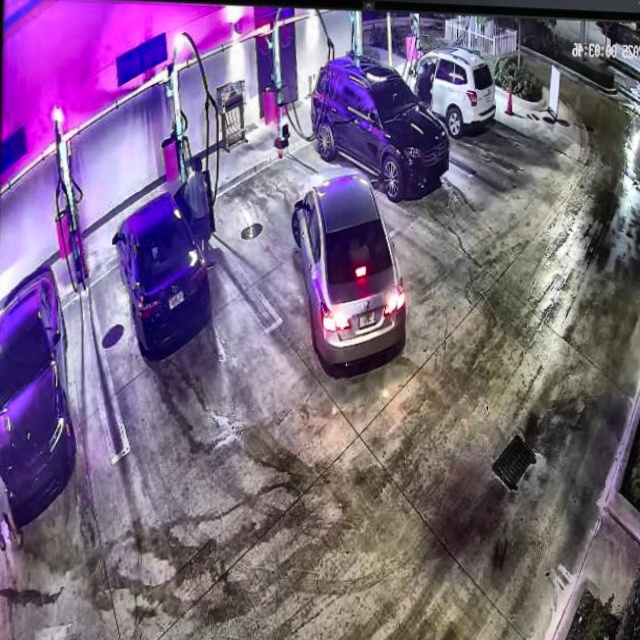Car: (287, 169, 411, 371), (308, 56, 452, 199), (110, 171, 211, 351)
